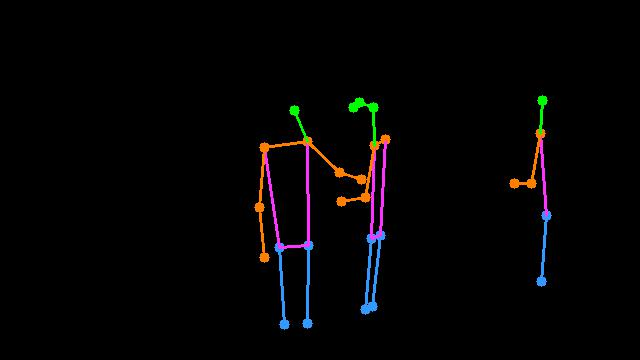normal: (234, 87, 401, 350)
